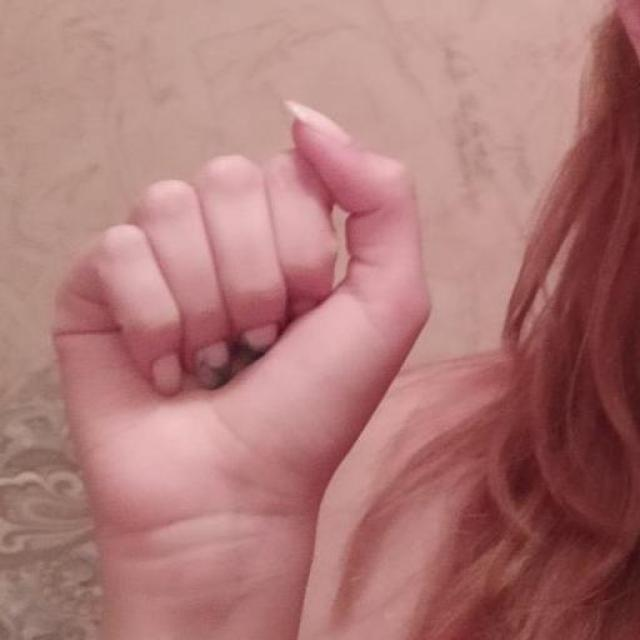hand: (49, 97, 432, 638)
